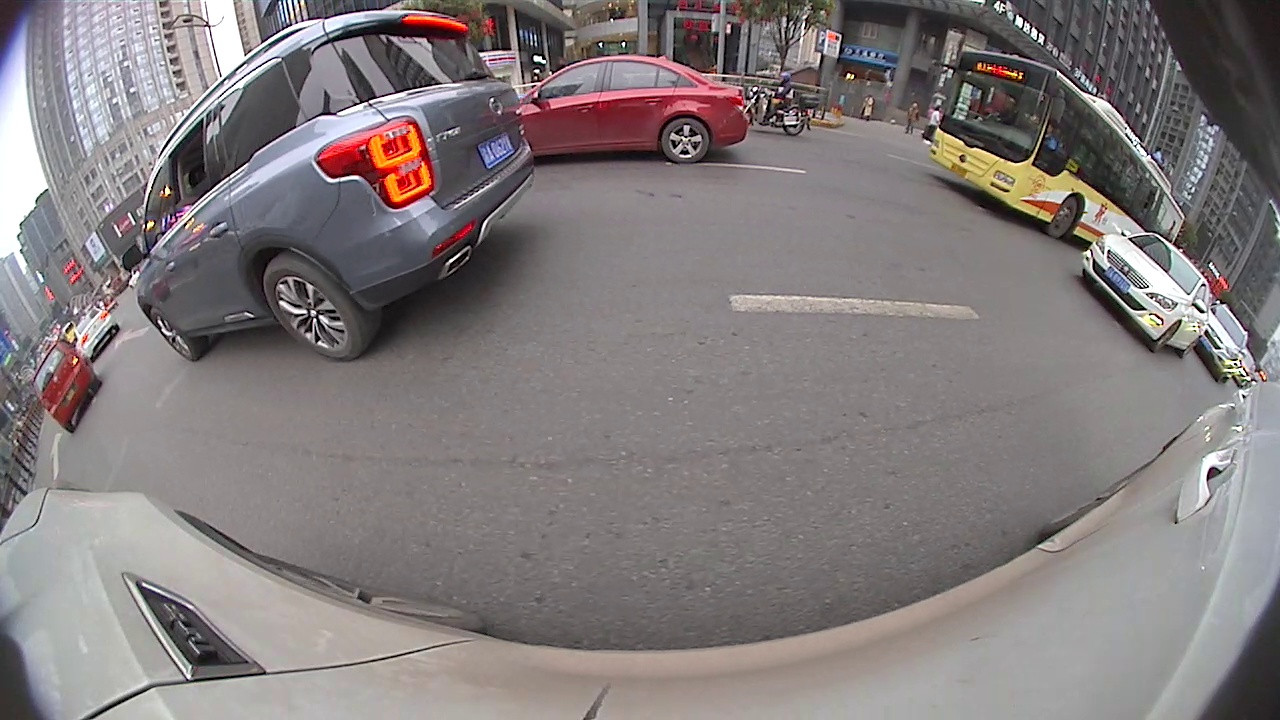bus: (926, 45, 1190, 253)
car: (119, 8, 537, 362), (503, 51, 751, 168), (1078, 228, 1212, 360), (1190, 302, 1249, 386)
front: (143, 306, 201, 364), (1051, 194, 1080, 240), (1148, 320, 1183, 355)
rear: (261, 256, 376, 363), (661, 117, 711, 163), (780, 120, 807, 138)
rider: (26, 338, 105, 433)
